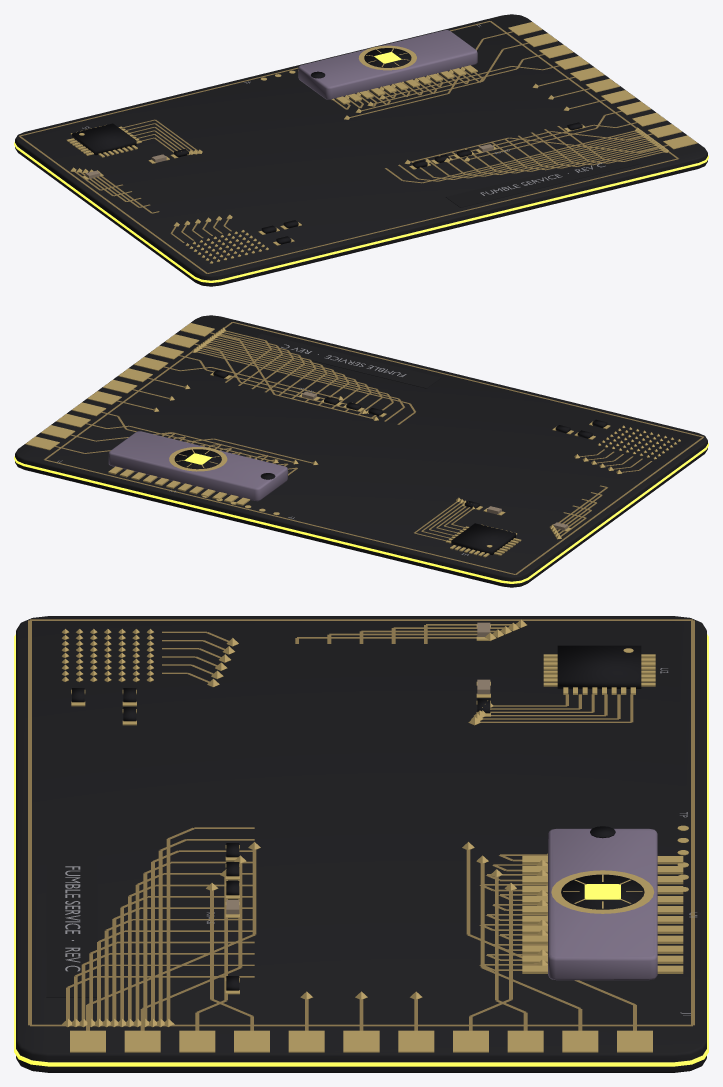
File: data_service_module.glb
The picture shows the model from 3 angles, top to bottom: view 1: azimuth 30°, elevation 25°; view 2: azimuth 150°, elevation 25°; view 3: azimuth 270°, elevation 25°; orthographic projection. The views are drawn at different scales.
Visible parts, largest first — view 1: Koerper, Bahn, Pad, Keramik, Dunkel, Saum; view 2: Koerper, Bahn, Pad, Keramik, Dunkel, Saum; view 3: Koerper, Bahn, Pad, Keramik, Dunkel, Saum, Schrift.
Part boxes in pixels (x1,y1,x2,y2): Koerper: [15, 14, 707, 286]; Bahn: [19, 21, 678, 273]; Pad: [66, 22, 697, 263]; Keramik: [298, 30, 477, 99]; Dunkel: [72, 48, 582, 244]; Saum: [14, 142, 708, 282]; Koerper: [15, 315, 707, 587]; Bahn: [44, 322, 703, 574]; Pad: [25, 323, 680, 557]; Keramik: [108, 431, 287, 501]; Dunkel: [174, 370, 607, 554]; Saum: [14, 443, 708, 583]; Koerper: [16, 616, 706, 1072]; Bahn: [28, 619, 694, 1030]; Pad: [62, 619, 688, 1052]; Keramik: [548, 828, 657, 980]; Dunkel: [72, 645, 644, 990]; Saum: [14, 634, 708, 1066]; Schrift: [65, 668, 697, 1015].
Size of the model in its own units: 1.62 by 0.076 by 1.08.
